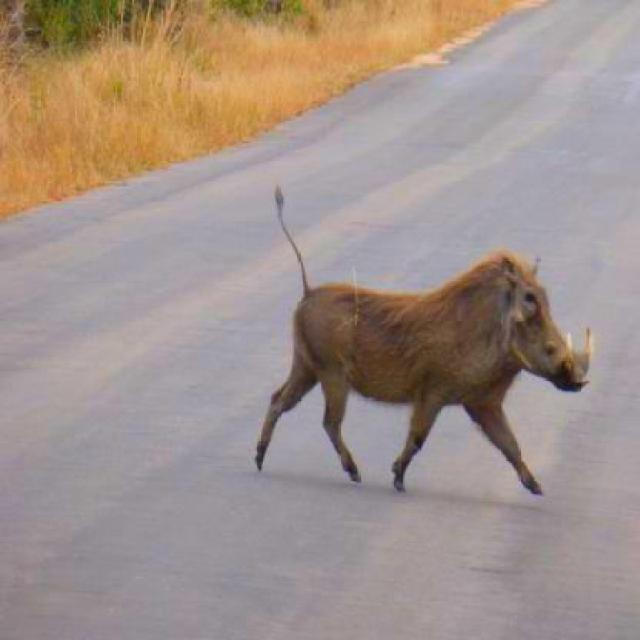Boar: (255, 183, 594, 497)
